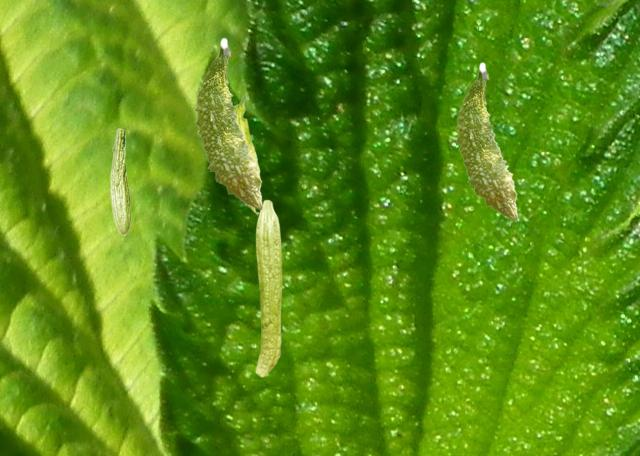ampalaya: (193, 37, 264, 210), (454, 62, 519, 221), (255, 199, 282, 377), (235, 93, 260, 215), (109, 128, 131, 236)
